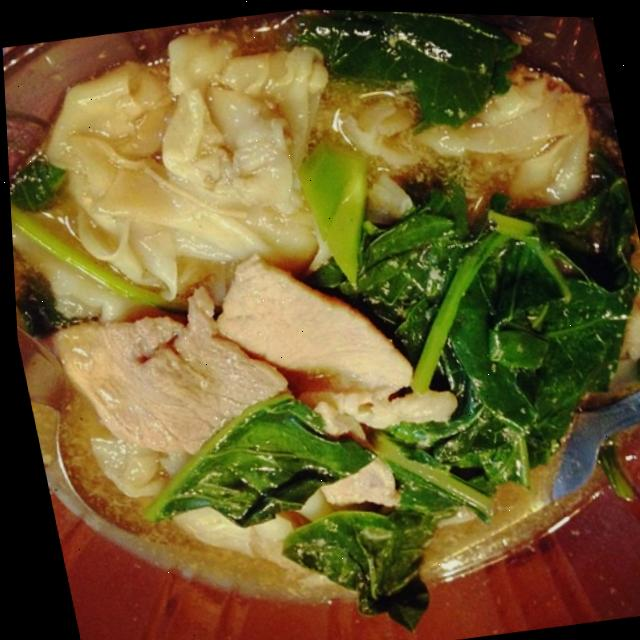面条主食: (0, 1, 640, 632)
